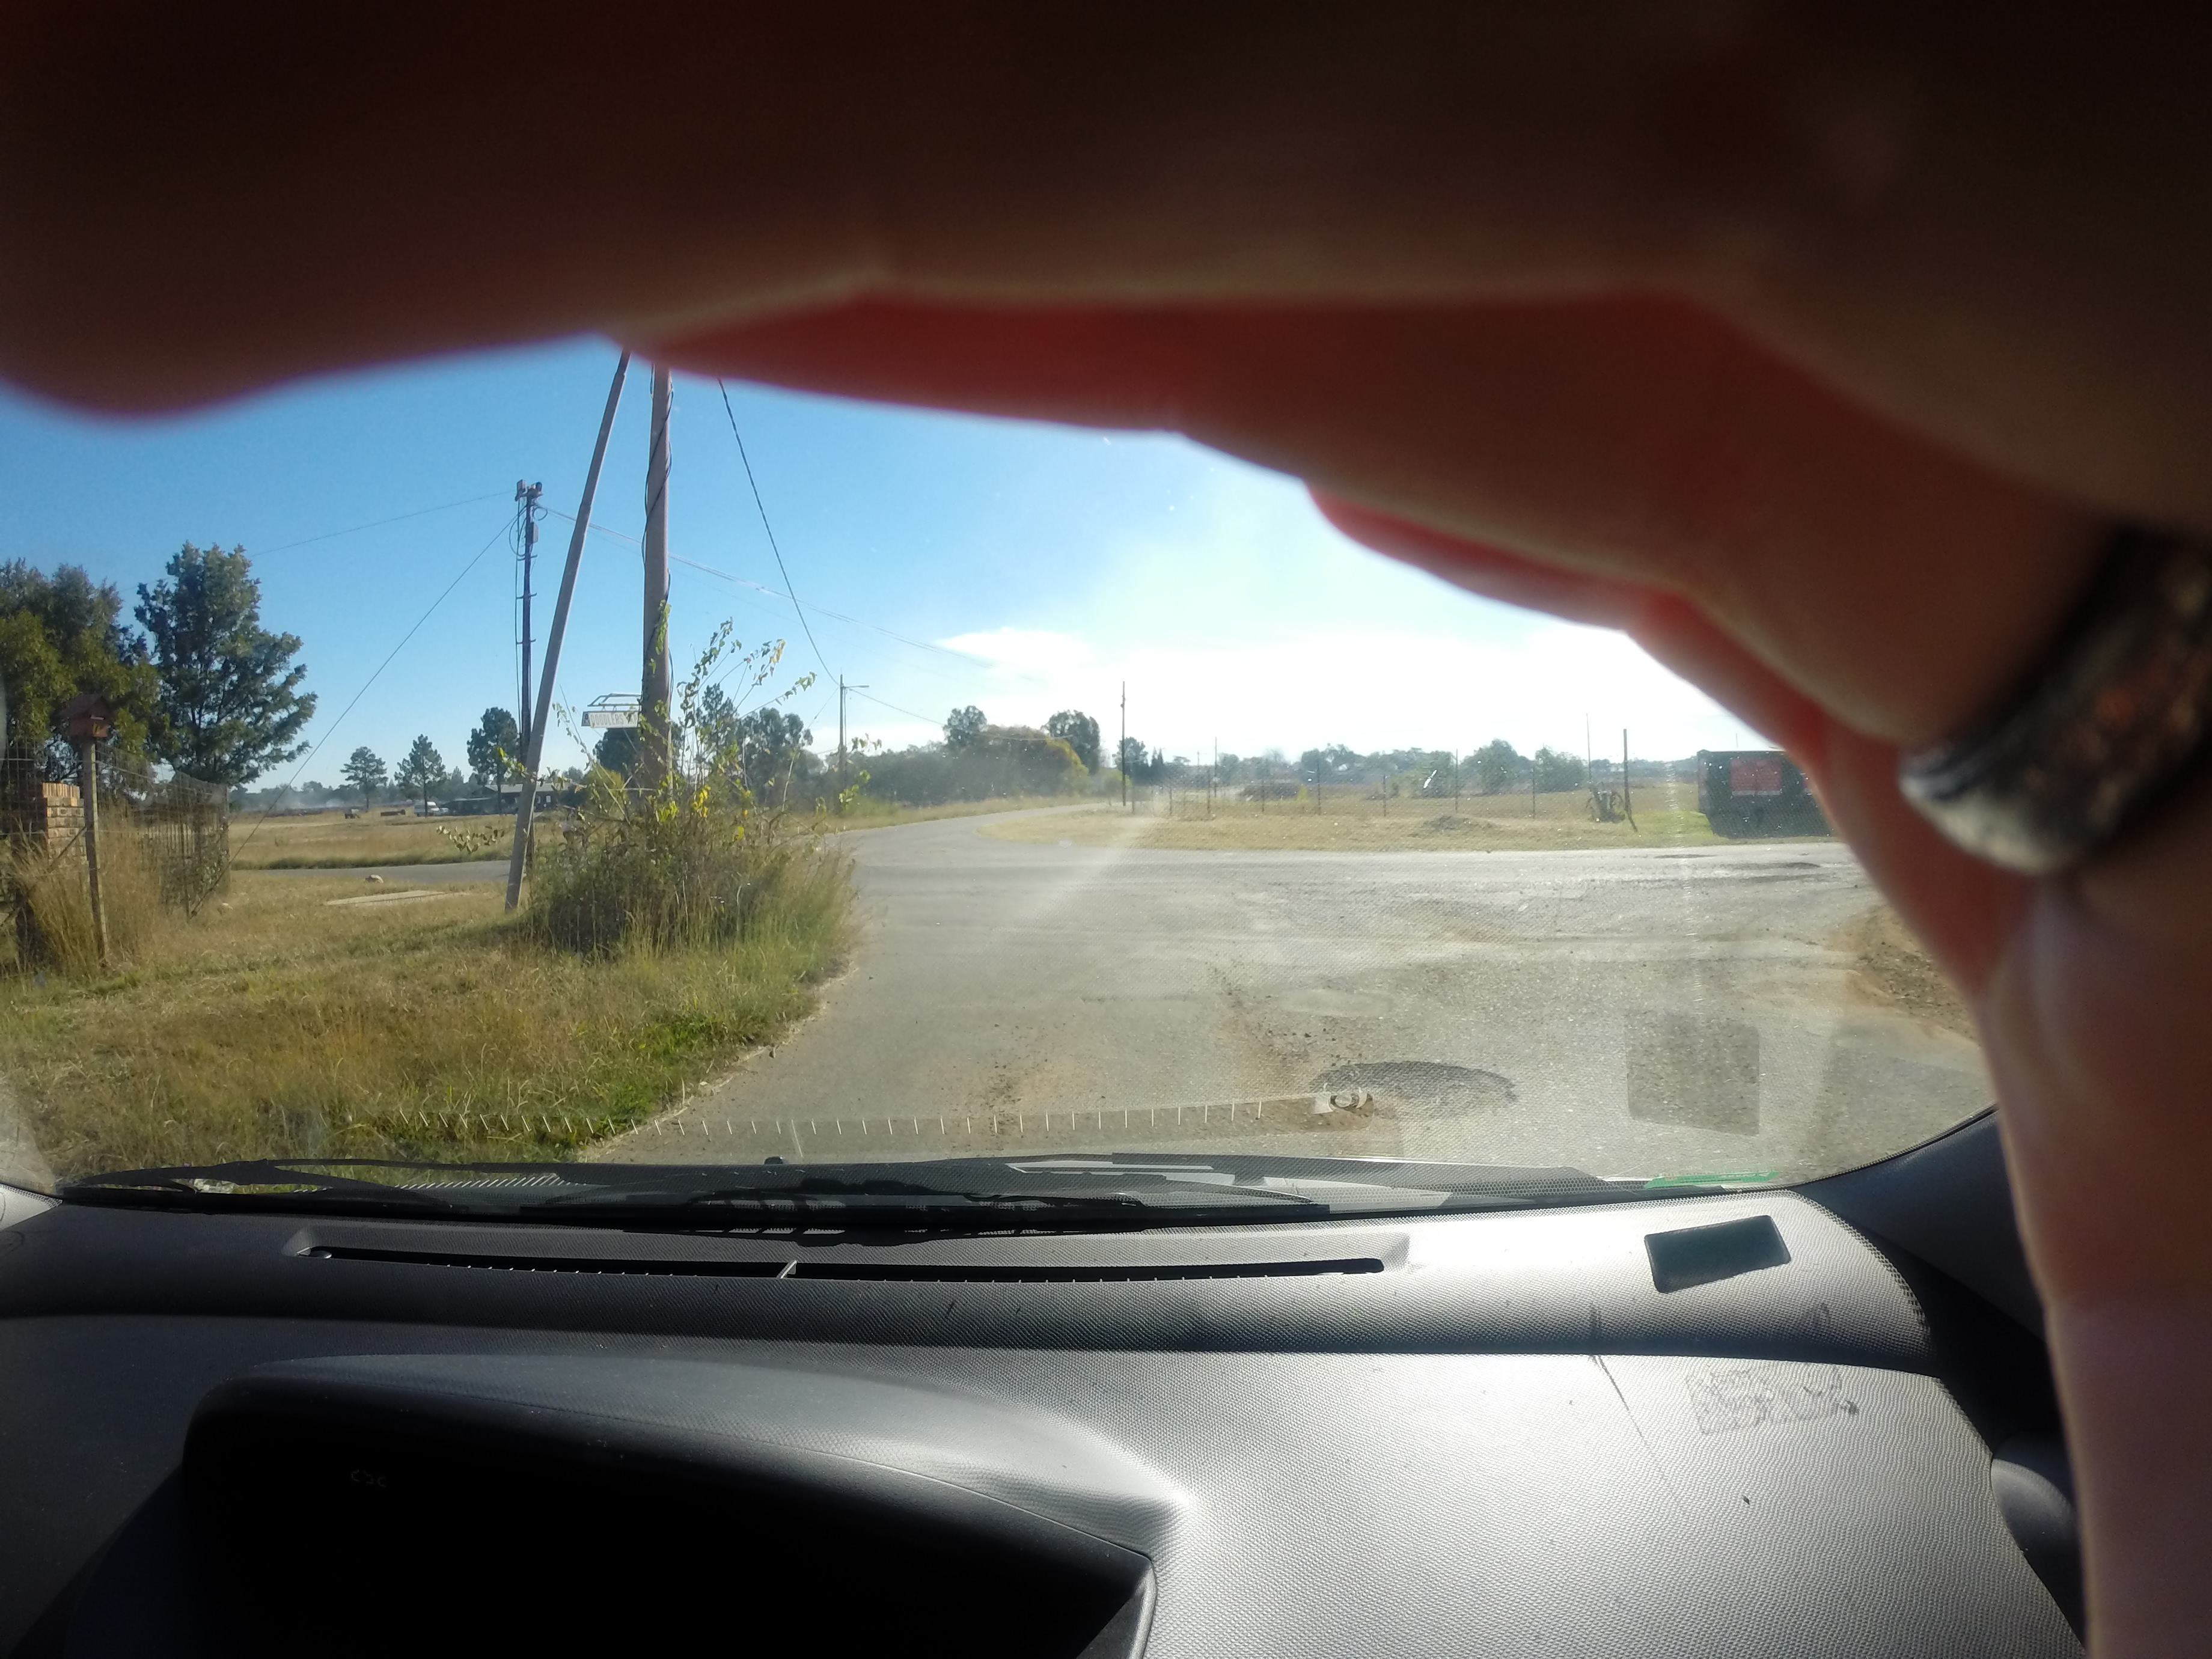pothole: (1223, 995, 1608, 1150)
